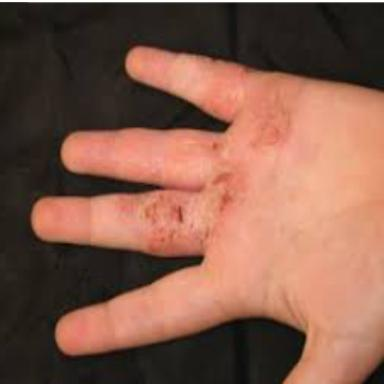eczema: (115, 132, 238, 255), (201, 58, 291, 150)
